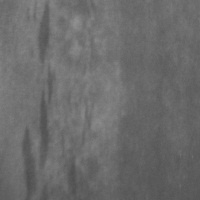inclusion: (17, 19, 56, 199), (28, 0, 55, 67), (60, 146, 85, 198)
